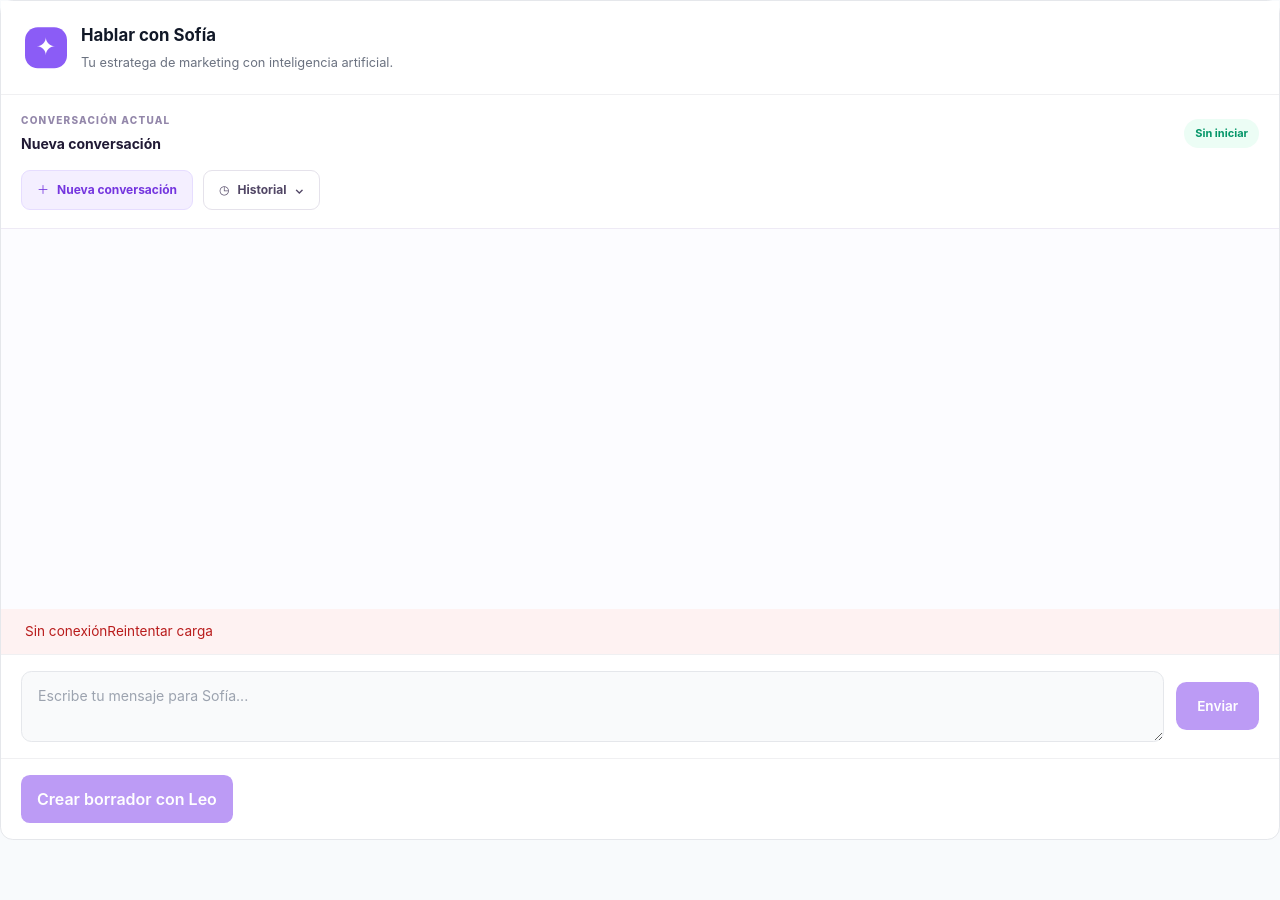
Test: SofiaChat › retries loading the conversation after an initial history error
Check: the message shows "Sin conexión", box [25,623,107,639]
Click the button "Reintentar carga" at (160, 631), box [107,621,213,642]
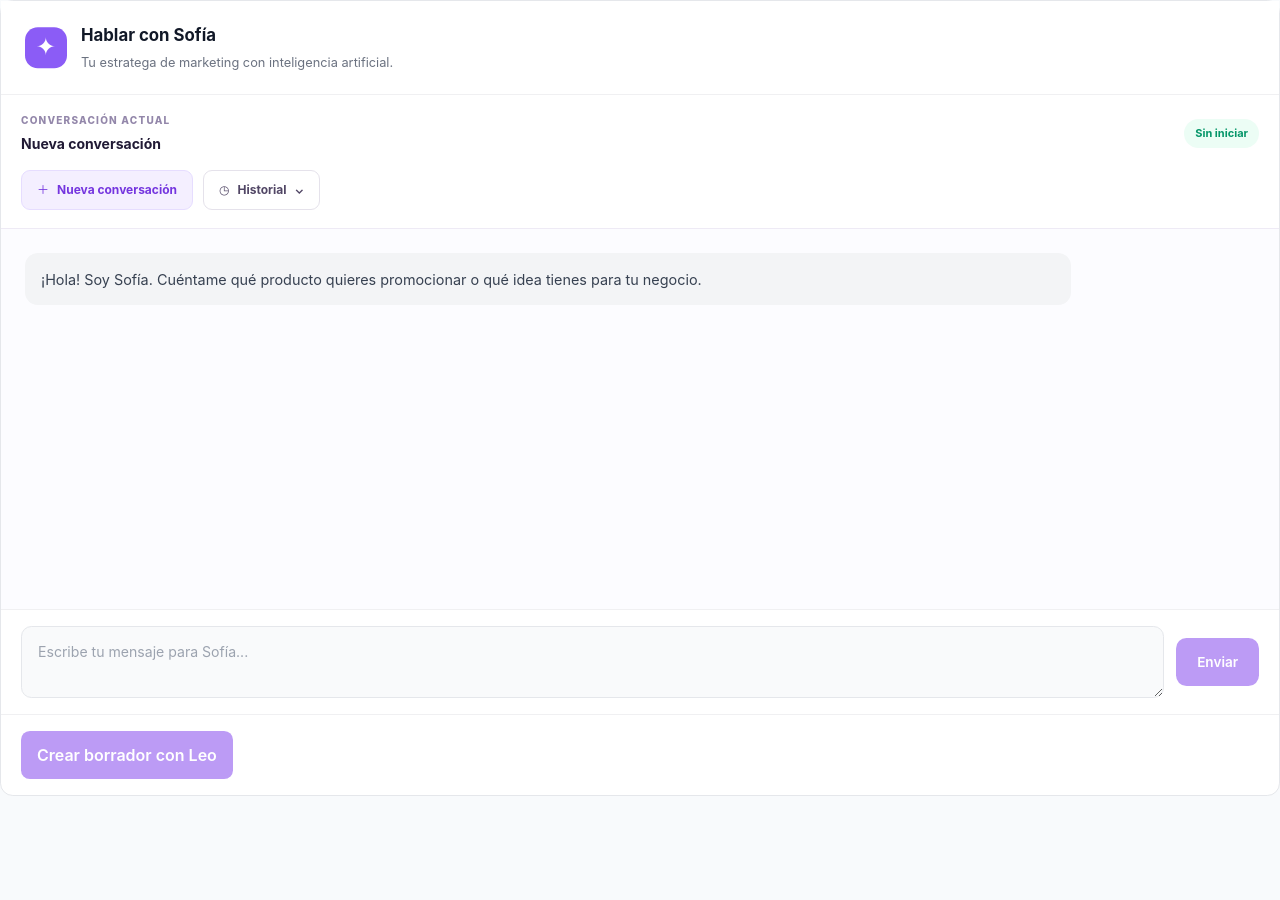
Check: the text "Soy Sofía" is shown, box [41,270,702,288]
